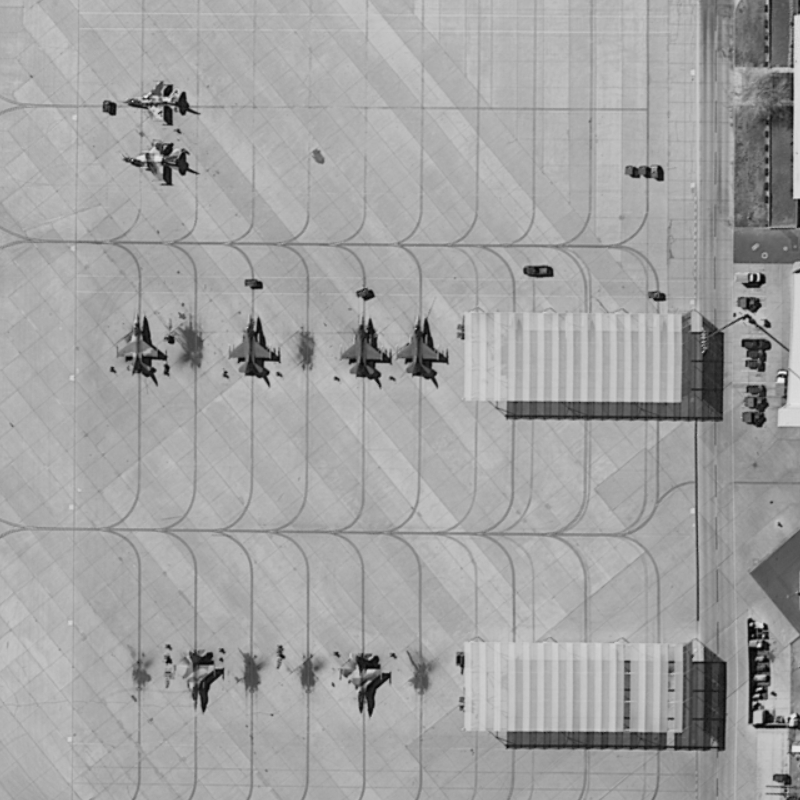A5: (118, 136, 192, 192), (333, 650, 393, 716), (223, 311, 279, 381), (338, 311, 392, 383), (395, 310, 447, 384), (112, 308, 166, 378), (118, 77, 191, 128), (167, 646, 222, 713)
